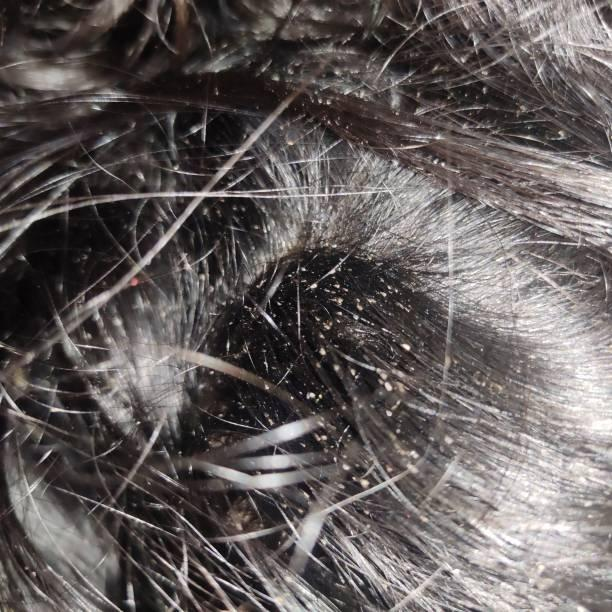dandruff: (262, 312, 332, 432), (365, 303, 414, 413), (234, 112, 317, 163), (408, 120, 459, 196)
